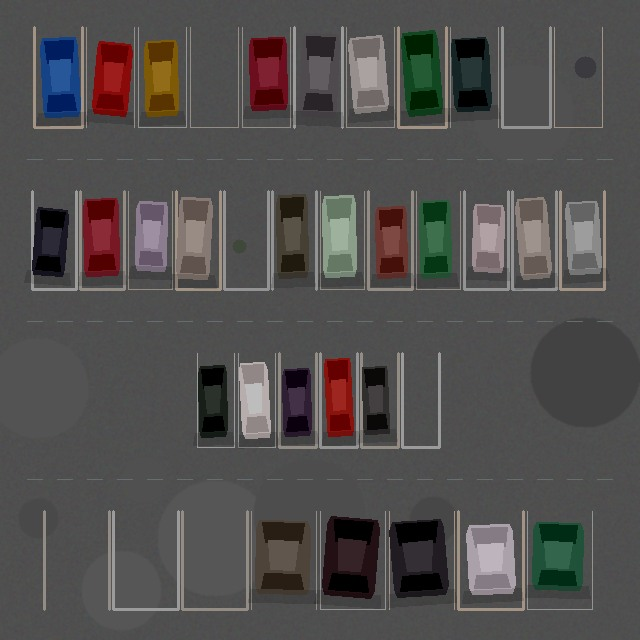space-empty: (44, 511, 109, 609), (113, 511, 178, 609), (182, 511, 247, 609), (190, 27, 238, 127), (502, 27, 550, 127), (554, 27, 602, 127), (224, 191, 268, 289), (402, 353, 439, 447)
space-occupied: (251, 511, 316, 609), (320, 511, 385, 609), (389, 511, 454, 609), (458, 511, 523, 609), (527, 511, 592, 609), (34, 27, 82, 127), (86, 27, 134, 127), (138, 27, 186, 127), (242, 27, 290, 127), (294, 27, 342, 127), (346, 27, 394, 127), (398, 27, 446, 127), (450, 27, 498, 127), (32, 191, 76, 289), (80, 191, 124, 289), (128, 191, 172, 289), (176, 191, 220, 289), (272, 191, 316, 289), (320, 191, 364, 289), (368, 191, 412, 289), (416, 191, 460, 289), (464, 191, 508, 289), (512, 191, 556, 289), (560, 191, 604, 289), (197, 353, 234, 447), (238, 353, 275, 447), (279, 353, 316, 447), (320, 353, 357, 447), (361, 353, 398, 447)
